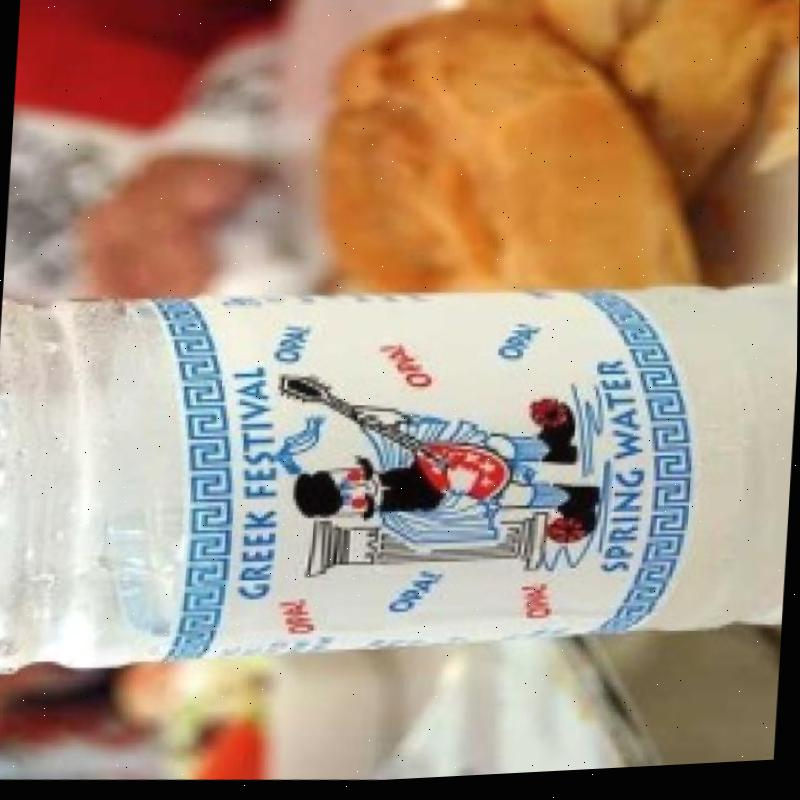botella: (0, 244, 798, 716)
